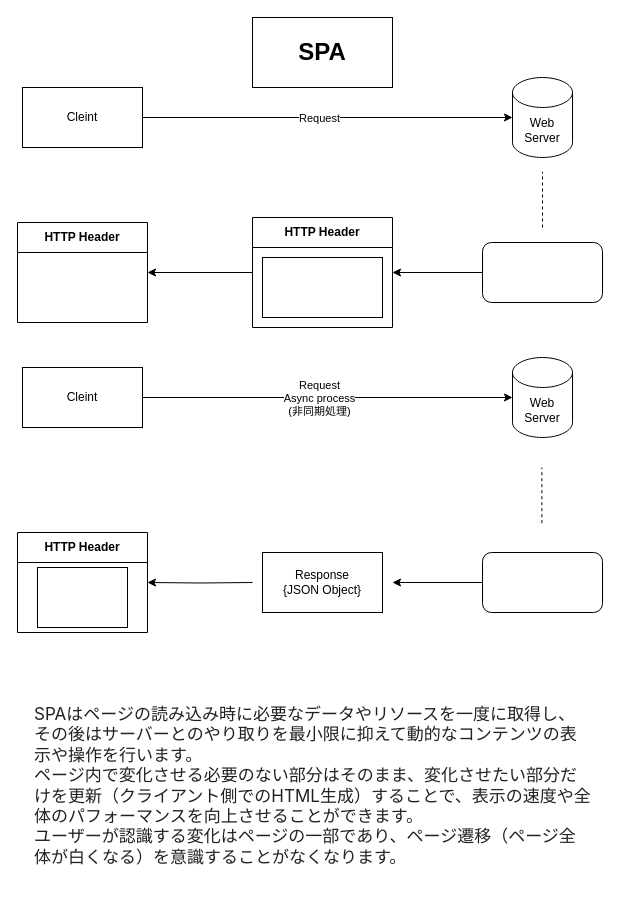
The diagram is 620 pixels wide and 900 high, and some of its shapes have lost their labels. Each missing label, with the box of its shape:
content: (36, 566, 128, 628)
Generate Content (コンテンツ情報の生成): (482, 552, 602, 612)
Generate HTML (生成): (482, 242, 602, 302)
Response: (262, 256, 382, 318)
